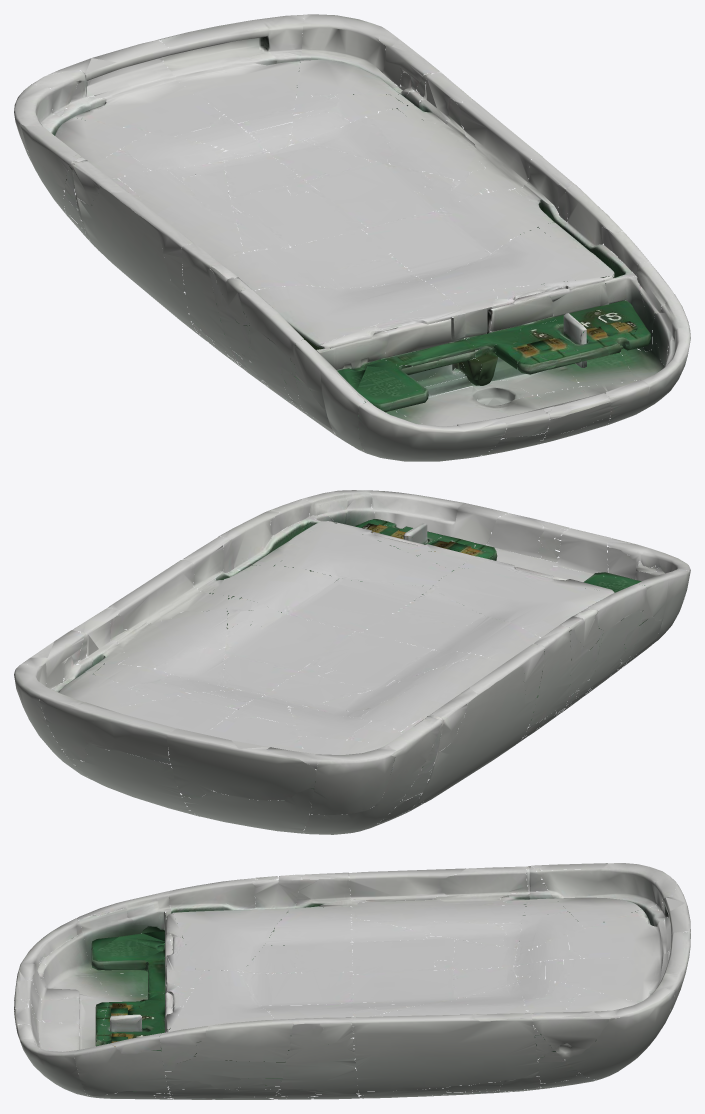
Rendered from batterie-audiolink.glb.
The picture shows the model from 3 angles, top to bottom: view 1: azimuth 30°, elevation 25°; view 2: azimuth 150°, elevation 25°; view 3: azimuth 270°, elevation 25°; orthographic projection. The views are drawn at different scales.
Parts seen in each view (by area): view 1: tripo_node_2e4114ca-be5f-4266-ad74-7388bb4ca596; view 2: tripo_node_2e4114ca-be5f-4266-ad74-7388bb4ca596; view 3: tripo_node_2e4114ca-be5f-4266-ad74-7388bb4ca596.
Part boxes in pixels (x1,y1,x2,y2): tripo_node_2e4114ca-be5f-4266-ad74-7388bb4ca596: (14,14,690,461); tripo_node_2e4114ca-be5f-4266-ad74-7388bb4ca596: (14,490,690,834); tripo_node_2e4114ca-be5f-4266-ad74-7388bb4ca596: (14,863,690,1099).
Size of the model in its own units: 0.5298 by 0.196 by 0.98.
1 material, 1 textured.
